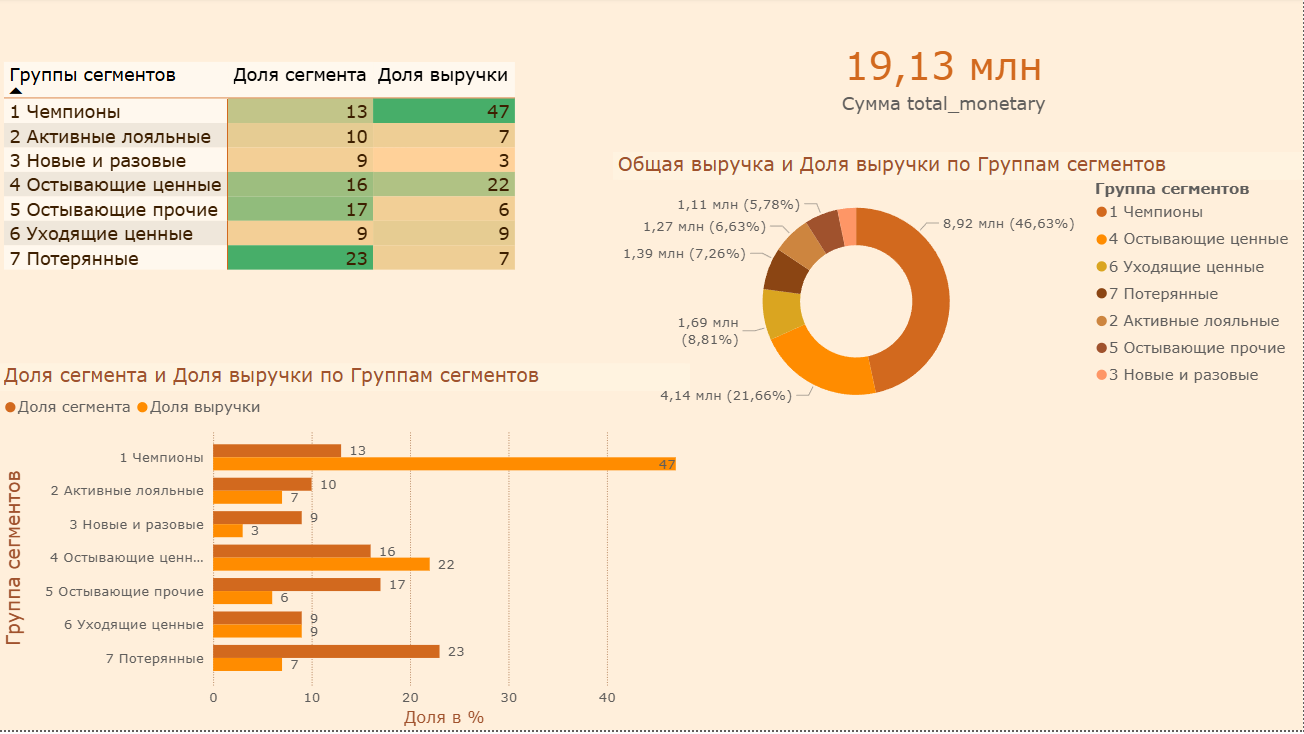

Layout of this report page (visuals, bound fields, positions):
{"tool":"powerbi","page":{"name":"RFM","canvas":[1280,720],"ordinal":1},"visuals":[{"type":"clusteredBarChart","title":"Доля сегмента и Доля выручки по Группам сегментов","fields":{"Category":["Sheet1.segment_group"],"Y":["Sum(Sheet1.users_share)","Sum(Sheet1.monetary_share)"]},"box":[0,359.5,678.5,360.7],"z":0},{"type":"pivotTable","fields":{"Rows":["Sheet1.segment_group"],"Values":["Sum(Sheet1.users_share)","Sum(Sheet1.monetary_share)"]},"box":[0,58.9,531.3,249.1],"z":2000},{"type":"donutChart","title":"Общая выручка и Доля выручки по Группам сегментов","fields":{"Y":["Sum(RFM_segment_share.total_monetary)"],"Category":["RFM_segment_share.segment_group"]},"box":[602.5,152.1,677.3,271.2],"z":2001},{"type":"card","fields":{"Values":["Sum(RFM_segment_share.total_monetary)"]},"box":[679,2,498,150],"z":2002}]}

Visuals, with their boxes in screenshot pixels (x1, y1, x2, y2), scaled from the page's 1280x720 canvas onto the 1304x734 screenshot:
"Доля сегмента и Доля выручки по Группам сегментов" clusteredBarChart: left=0, top=366, right=691, bottom=733
pivotTable - Sheet1.segment_group x Sum(Sheet1.users_share): left=0, top=60, right=541, bottom=314
"Общая выручка и Доля выручки по Группам сегментов" donutChart: left=614, top=155, right=1303, bottom=432
card - Sum(RFM_segment_share.total_monetary): left=692, top=2, right=1199, bottom=155
